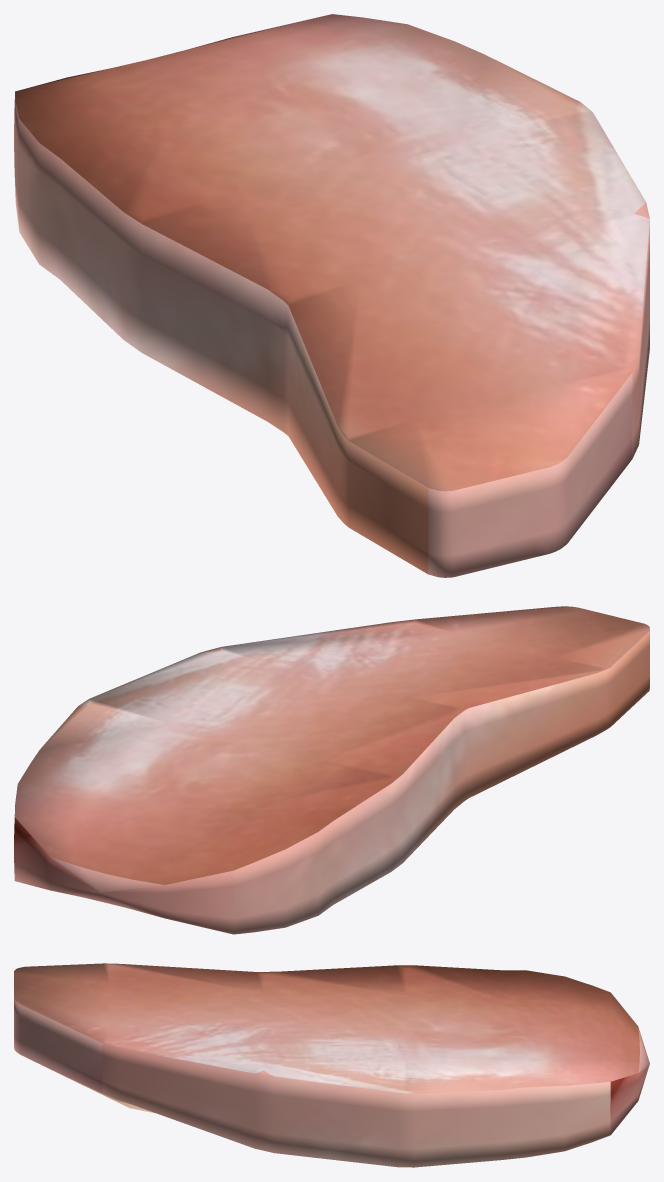
Rendered from chicken.fbx.
3 renders of one model, top to bottom at view 1: azimuth 30°, elevation 25°; view 2: azimuth 150°, elevation 25°; view 3: azimuth 270°, elevation 25°, orthographic. The views are drawn at different scales.
Parts seen in each view (by area): view 1: chicken; view 2: chicken; view 3: chicken.
Part boxes in pixels (<box>): chicken: <box>14,14,649,577</box>; chicken: <box>14,606,649,934</box>; chicken: <box>14,963,649,1167</box>.
Bounding box in the file's own units: 241 × 61.07 × 459.
1 material, 1 textured.
